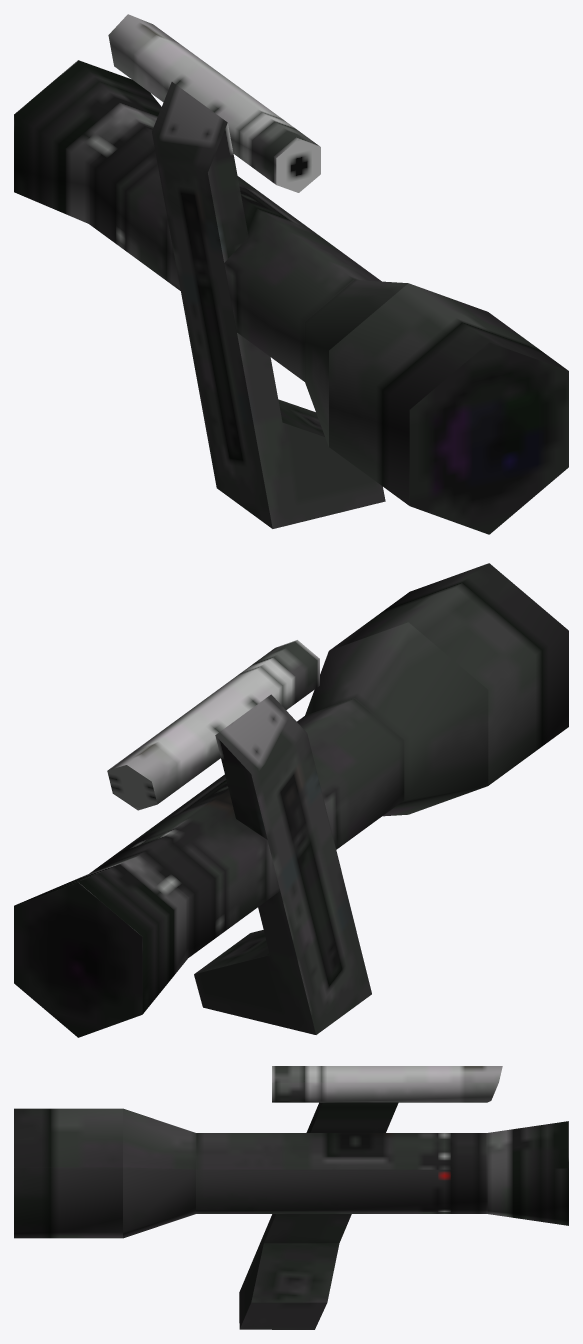
File: wp_scope_sm_s07_l0.fbx
3 views of the same model, one above another, from view 1: azimuth 30°, elevation 25°; view 2: azimuth 150°, elevation 25°; view 3: azimuth 270°, elevation 25° (orthographic). The views are drawn at different scales.
Visible parts, largest first — view 1: mesh_node; view 2: mesh_node; view 3: mesh_node.
Part boxes in pixels (x1,y1,x2,y2): mesh_node: (14,14,568,534); mesh_node: (14,563,568,1037); mesh_node: (14,1066,568,1329).
Size of the model in its own units: 0.0287 by 0.062 by 0.1284.
Materials: 1 (1 with a texture image).
